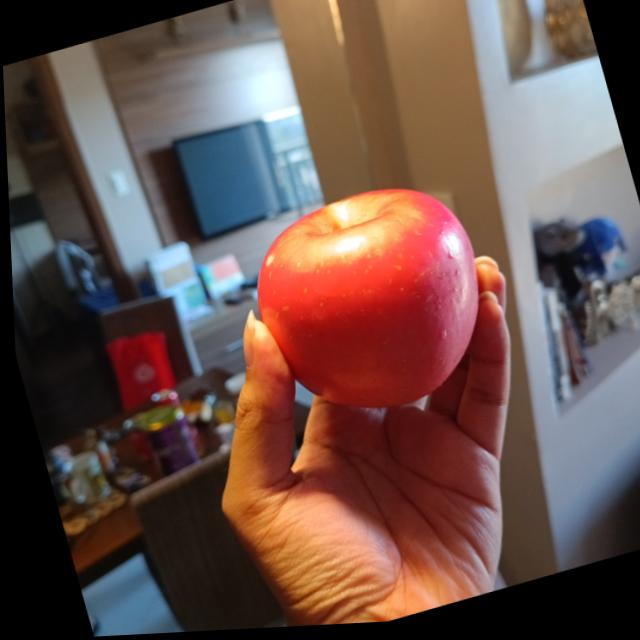apple: (234, 171, 504, 437)
